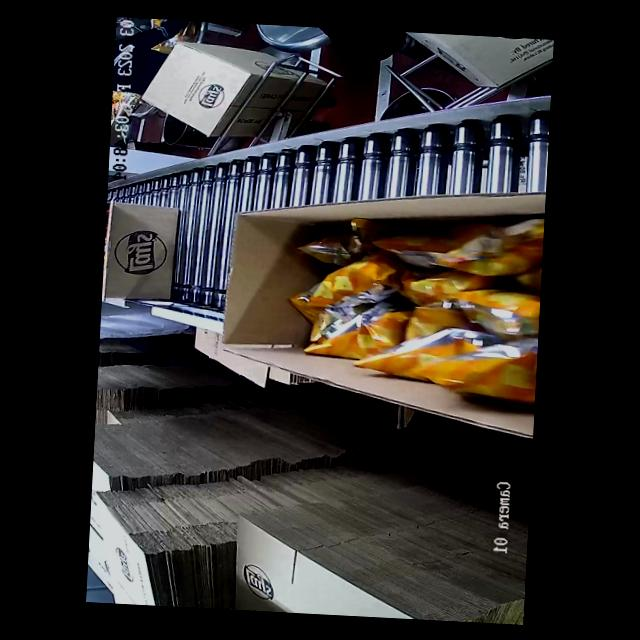cheese: (259, 234, 543, 382)
